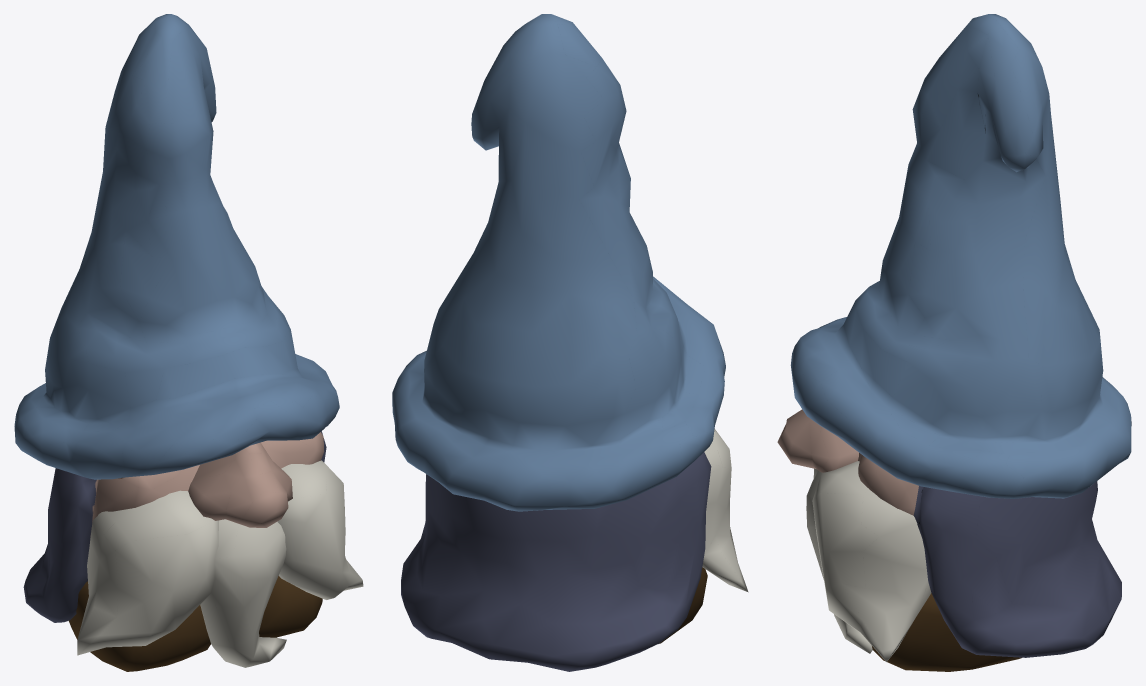
File: wizard.dae
3 renders of one model, left to right at view 1: azimuth 30°, elevation 25°; view 2: azimuth 150°, elevation 25°; view 3: azimuth 270°, elevation 25°, orthographic. The views are drawn at different scales.
Parts seen in each view (by area): view 1: Icosphere.002; view 2: Icosphere.002; view 3: Icosphere.002.
Part boxes in pixels (x1,y1,x2,y2): Icosphere.002: [14, 14, 363, 671]; Icosphere.002: [392, 14, 748, 671]; Icosphere.002: [777, 14, 1131, 671].
Bounding box in the file's own units: 2.56 × 2.66 × 5.13.
Materials: 1 (1 with a texture image).
